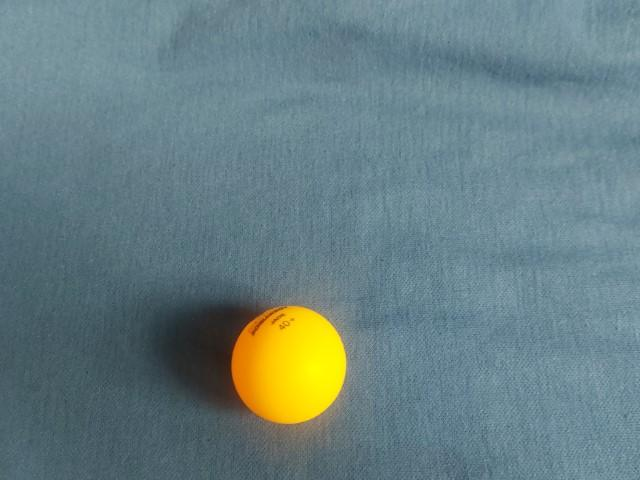oball: (287, 50, 414, 179)
